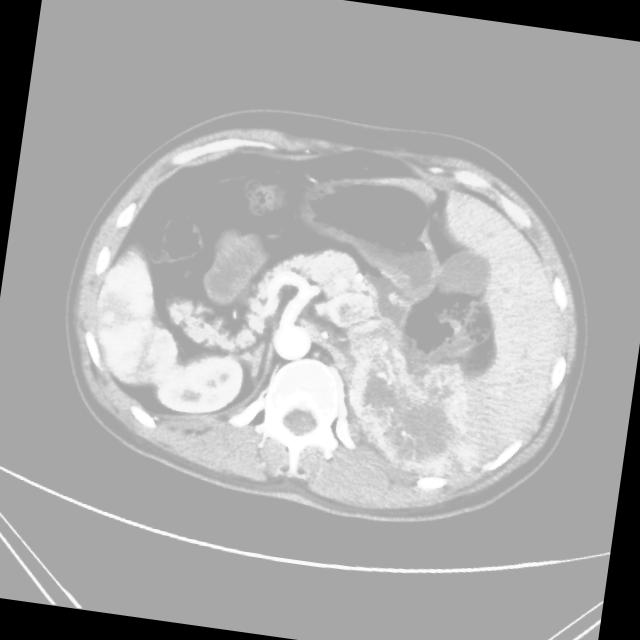TUMOR: (58, 102, 549, 440)
